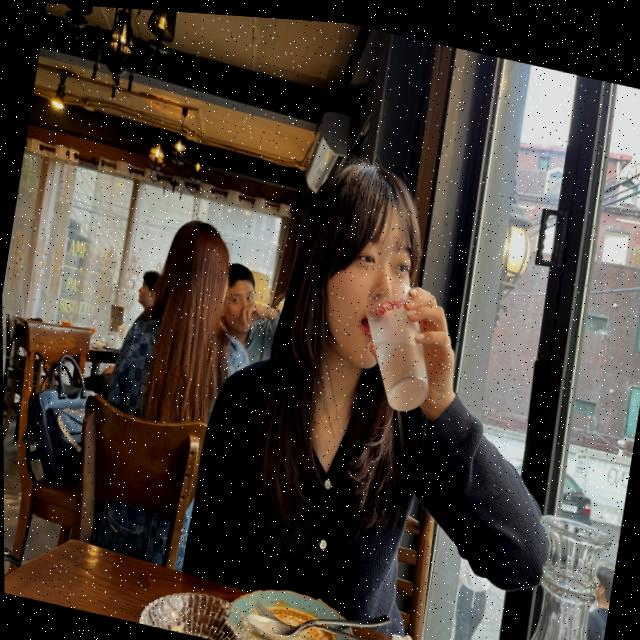eating-person: (149, 109, 604, 640)
